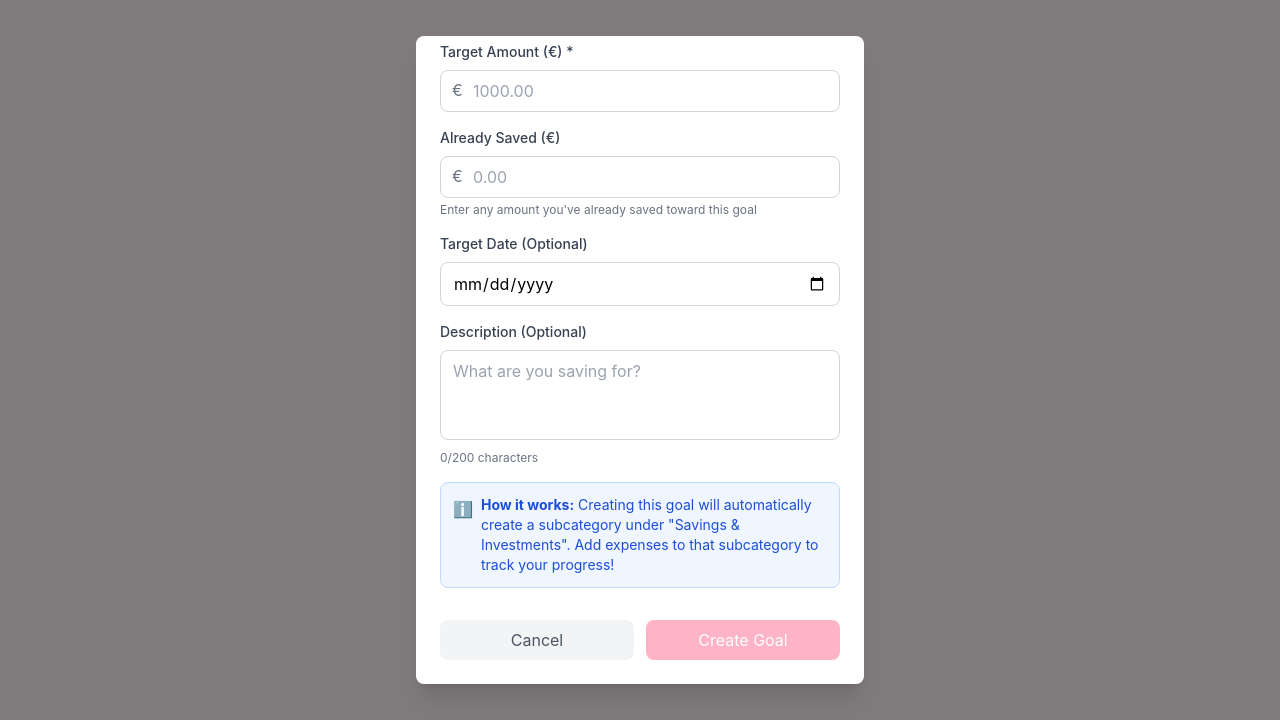
CreateGoalModal › Input Validation › clears name error when user starts typing
(page scrolled)
Click the button "Create Goal" at [743, 640], box [646, 620, 840, 660]
(page scrolled)
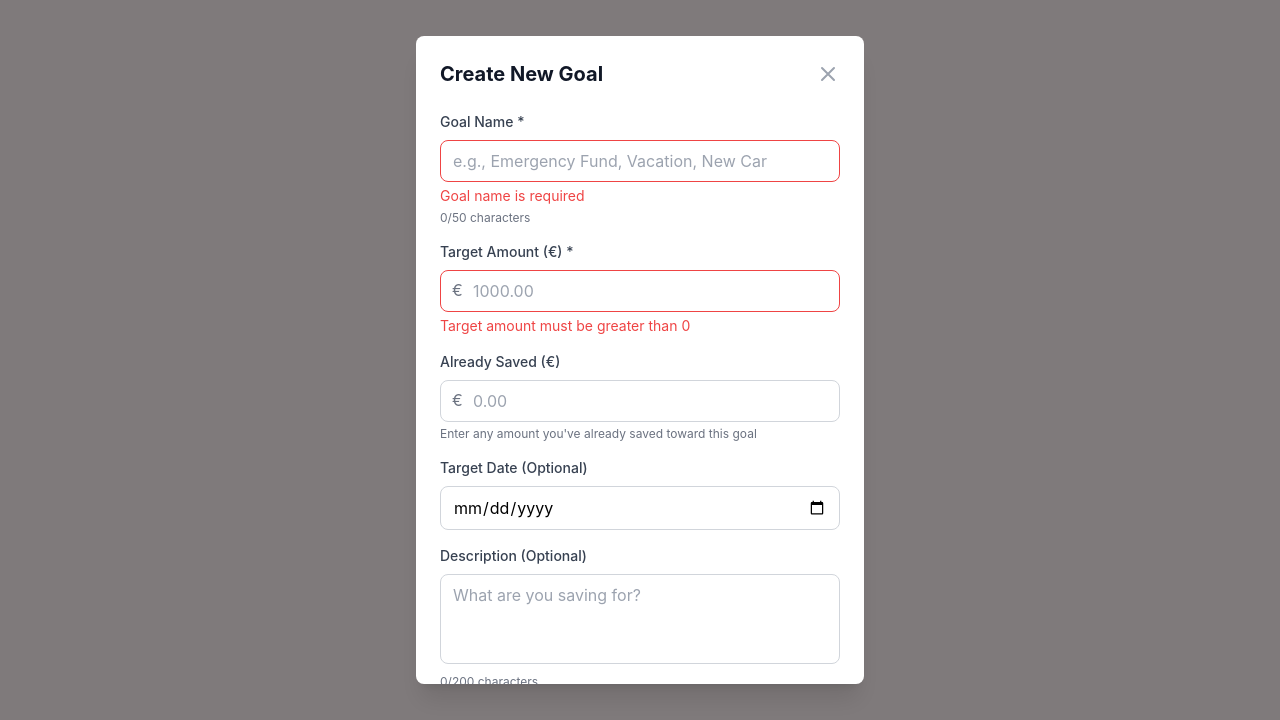
Result: the text "Goal name is required" is shown at [440, 187, 585, 204]
Type "A" into the field with placeholder "e.g., Emergency Fund, Vacation, New Car" at [640, 161], box [440, 140, 840, 182]
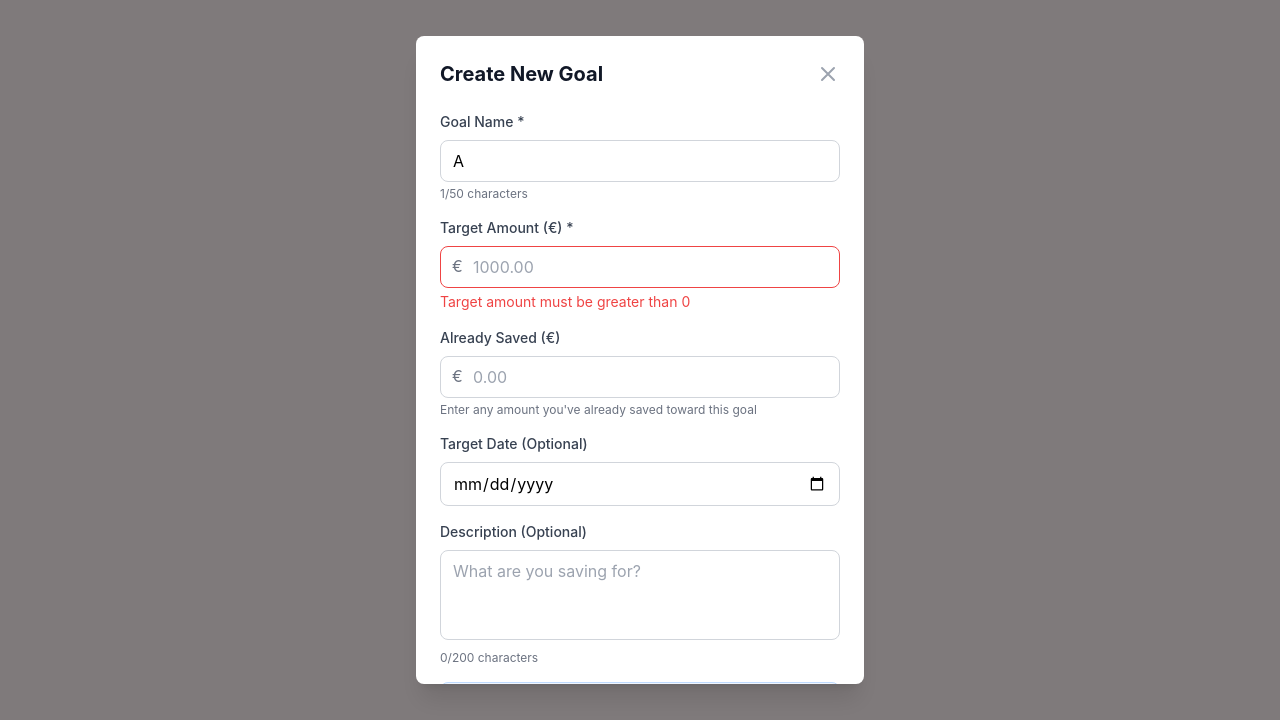
Result: the text "Goal name is required" is gone
